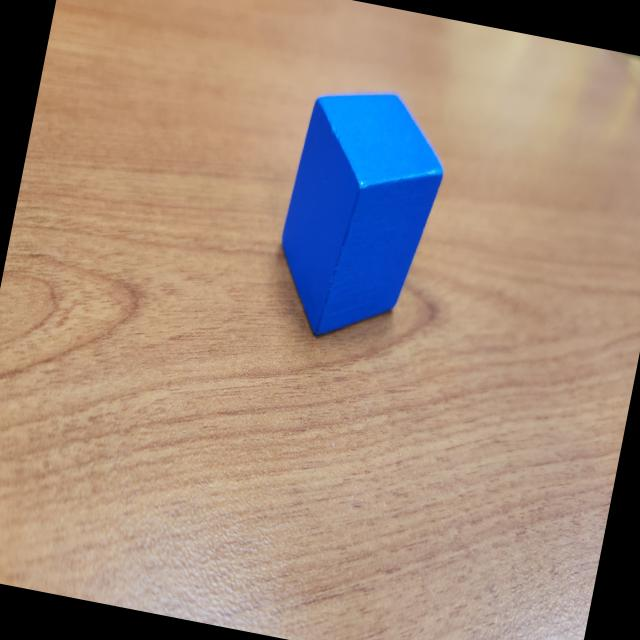blue: (263, 78, 457, 354)
